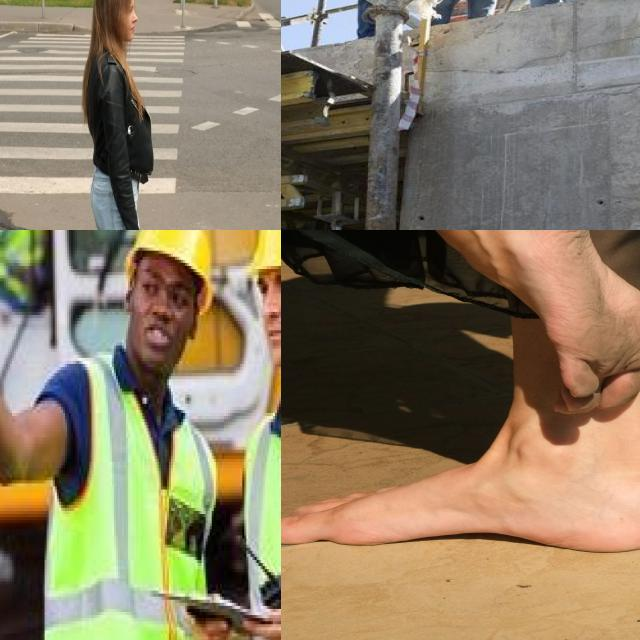Barefoots: (281, 460, 640, 553), (485, 230, 640, 415)
No_Glasses: (132, 264, 195, 318), (250, 263, 281, 303)
face_nomask: (130, 257, 196, 364), (254, 263, 281, 367)
hand_noglove: (250, 563, 281, 640)
head_helmet: (130, 230, 207, 287)
person: (48, 230, 211, 640), (330, 0, 433, 34)
vest: (50, 365, 213, 640), (0, 230, 42, 278)
